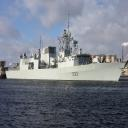Fragata: (5, 12, 128, 85)
